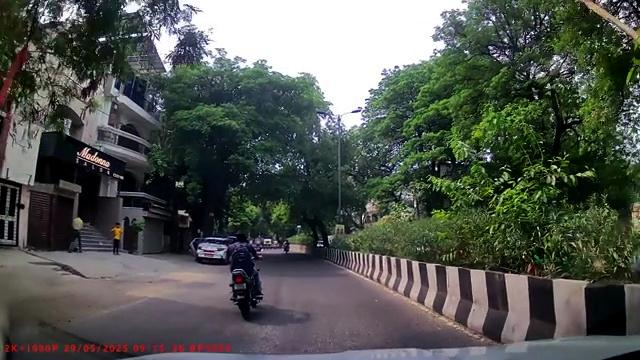motorcycle_without_helmet: (226, 231, 264, 320)
